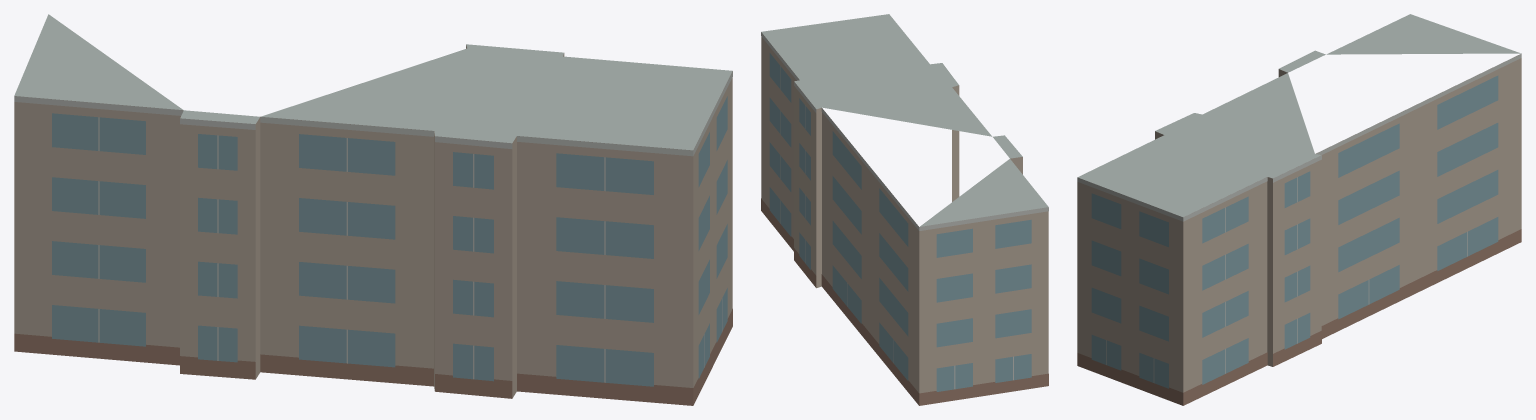
Rendered from survey-upis-32568035.glb.
3 renders of one model, left to right at view 1: azimuth 30°, elevation 25°; view 2: azimuth 150°, elevation 25°; view 3: azimuth 270°, elevation 25°, orthographic. The views are drawn at different scales.
Visible parts, largest first — view 1: survey-upis-32568035.tmp; view 2: survey-upis-32568035.tmp; view 3: survey-upis-32568035.tmp.
Boxes of the visible parts, bbox=[...] form: survey-upis-32568035.tmp: bbox=[14, 14, 732, 405]; survey-upis-32568035.tmp: bbox=[761, 14, 1048, 405]; survey-upis-32568035.tmp: bbox=[1077, 14, 1521, 405].
Bounding box in the file's own units: 24.29 × 10.5 × 22.42.
